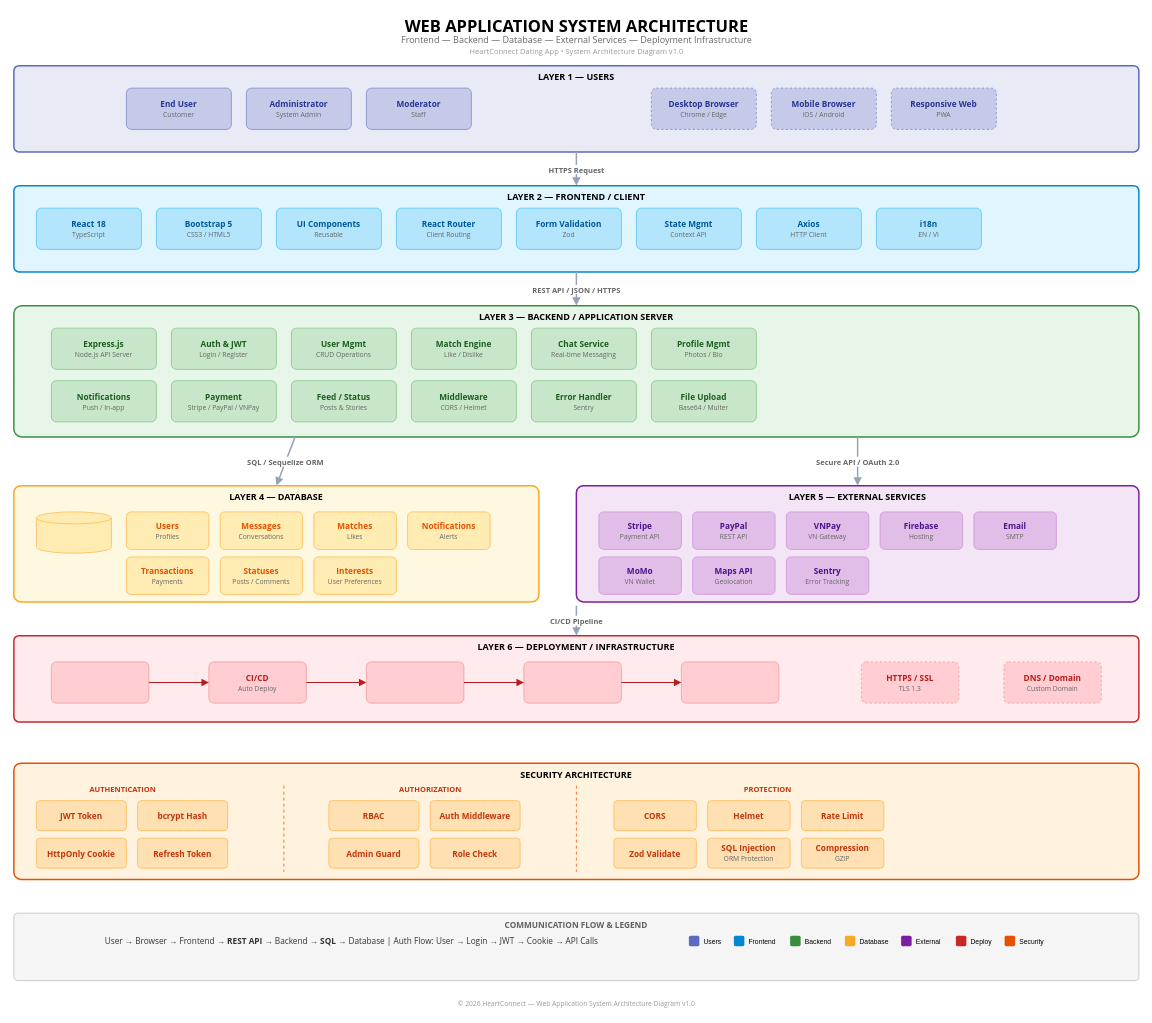
This 1152x1023 diagram has some shape labels left out. The shapes that lost their labels are listed below. From the top down, each one's centre as x and y in pixels, then its label:
At point 73,532: "MySQL Aiven Cloud".
At point 100,682: "GitLab Source Code".
At point 415,682: "Firebase Frontend Host".
At point 572,682: "Render Backend Host".
At point 730,682: "Aiven MySQL Cloud".
